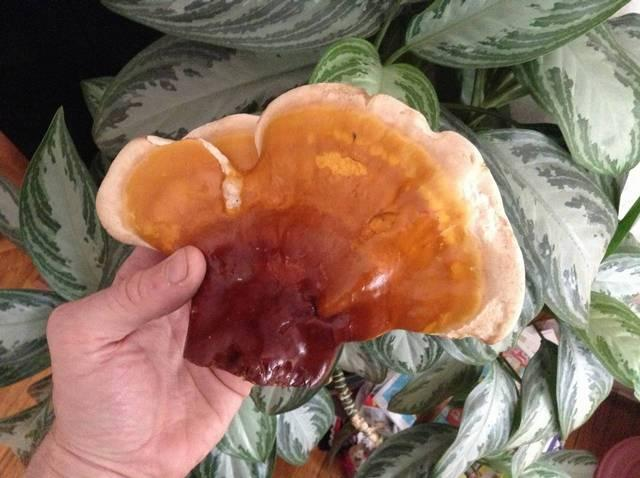poisonous_mushroom: (94, 80, 526, 389)
